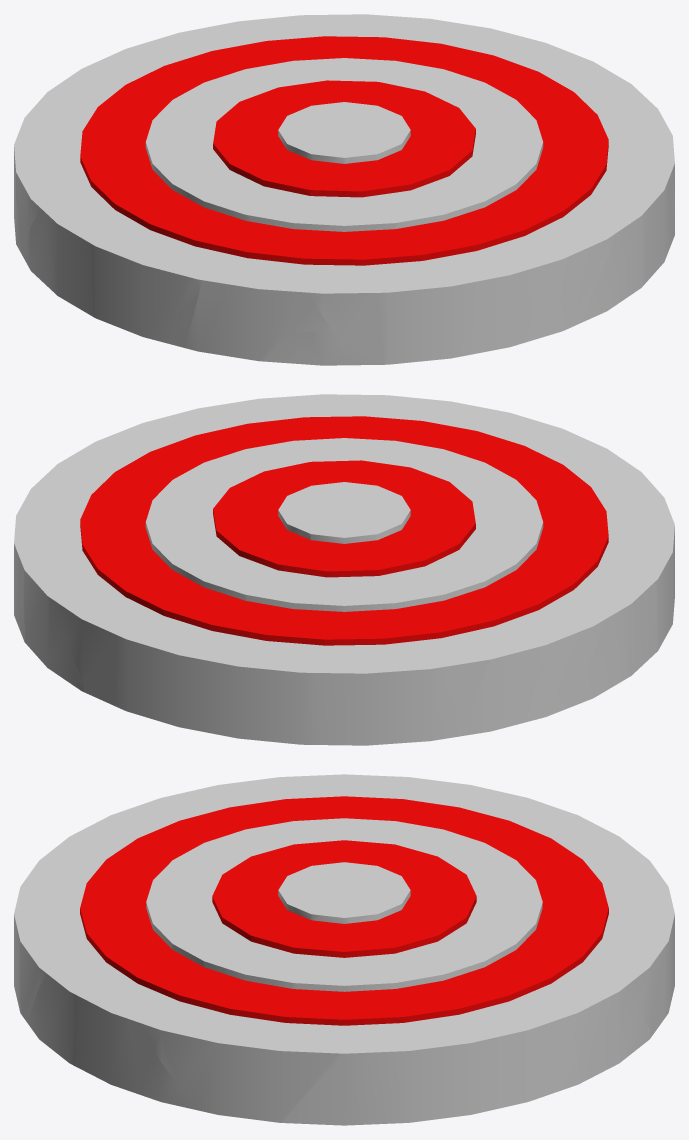
The model's file is Target_Broken 1.fbx.
3 views of the same model, one above another, from view 1: azimuth 30°, elevation 25°; view 2: azimuth 150°, elevation 25°; view 3: azimuth 270°, elevation 25° (orthographic).
Parts seen in each view (by area): view 1: Target_Part_32, Target_Part_77, Target_Part_6, Target_Part_33, Target_Part_8, Target_Part_38, Target_Part_98, Target_Part_30, Target_Part_35, Target_Part_44, Target_Part_47, Target_Part_93 (+50 smaller); view 2: Target_Part_77, Target_Part_28, Target_Part_30, Target_Part_72, Target_Part_98, Target_Part_8, Target_Part_27, Target_Part_91, Target_Part_25, Target_Part_71, Target_Part_75, Target_Part_7 (+44 smaller); view 3: Target_Part_91, Target_Part_93, Target_Part_77, Target_Part_98, Target_Part_72, Target_Part_97, Target_Part_30, Target_Part_92, Target_Part_39, Target_Part_38, Target_Part_78, Target_Part_96 (+44 smaller).
Part boxes in pixels (box(x1,y1,x2,y2)): Target_Part_32: box(377, 256, 473, 364); Target_Part_77: box(74, 20, 270, 99); Target_Part_6: box(90, 239, 190, 343); Target_Part_33: box(456, 249, 570, 354); Target_Part_8: box(46, 159, 159, 316); Target_Part_38: box(500, 203, 616, 327); Target_Part_98: box(426, 44, 580, 123); Target_Part_30: box(14, 86, 191, 155); Target_Part_35: box(387, 189, 497, 260); Target_Part_44: box(306, 252, 387, 360); Target_Part_47: box(227, 282, 311, 361); Target_Part_93: box(570, 86, 674, 193); Target_Part_77: box(114, 592, 333, 744); Target_Part_28: box(315, 636, 469, 745); Target_Part_30: box(325, 587, 489, 712); Target_Part_72: box(50, 558, 150, 705); Target_Part_98: box(84, 461, 231, 545); Target_Part_8: box(472, 569, 655, 680); Target_Part_27: box(465, 630, 567, 735); Target_Part_91: box(14, 475, 94, 620); Target_Part_25: box(373, 548, 495, 618); Target_Part_71: box(148, 549, 274, 616); Target_Part_75: box(169, 511, 301, 560); Target_Part_7: box(460, 521, 578, 583); Target_Part_91: box(368, 994, 555, 1123); Target_Part_93: box(140, 1006, 338, 1122); Target_Part_77: box(514, 855, 674, 1019); Target_Part_98: box(294, 961, 509, 1029); Target_Part_72: box(515, 941, 664, 1035); Target_Part_97: box(129, 983, 296, 1110); Target_Part_30: box(457, 798, 576, 869); Target_Part_92: box(283, 1016, 383, 1125); Target_Part_39: box(75, 984, 165, 1094); Target_Part_38: box(18, 920, 123, 1021); Target_Part_78: box(570, 989, 651, 1083); Target_Part_96: box(197, 928, 327, 986).
Size of the model in its own units: 1 by 1 by 0.2.
